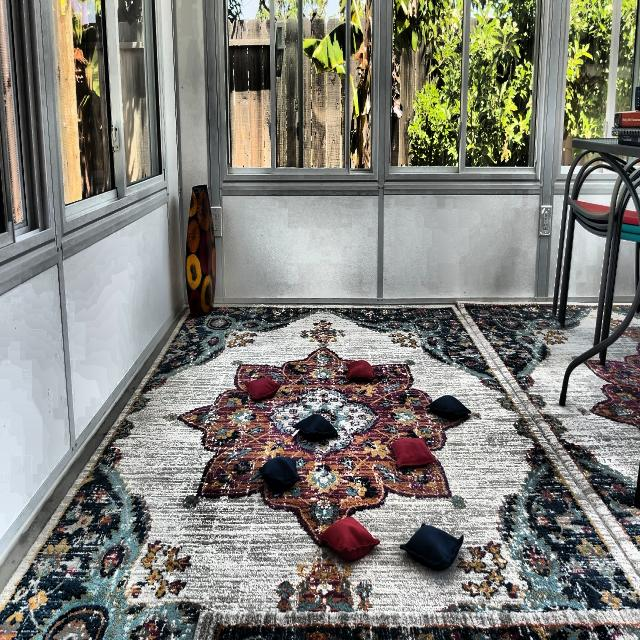blue-bean-bag: (400, 521, 464, 570), (291, 413, 338, 443), (258, 456, 302, 488), (424, 393, 472, 422)
red-bean-bag: (316, 515, 382, 562), (390, 434, 437, 470), (244, 376, 280, 400), (346, 359, 374, 384)
